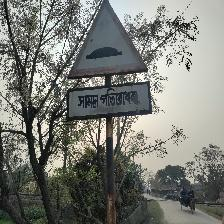Speed-breaker: (66, 0, 151, 124)
